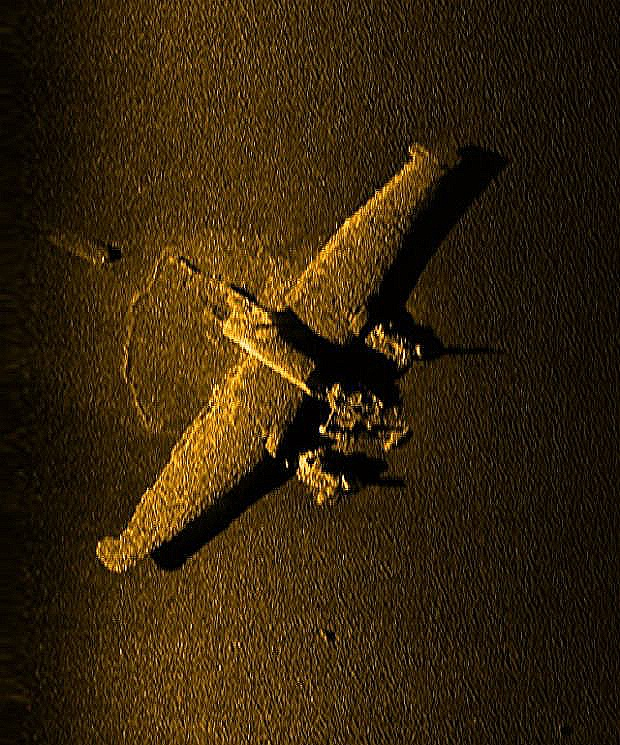aircraft: (91, 139, 450, 577)
